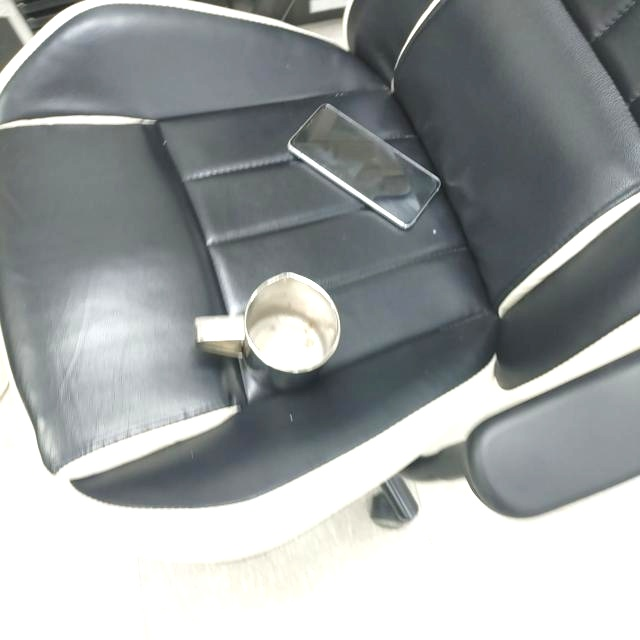cup: (195, 268, 345, 396)
phone: (286, 100, 446, 232)
